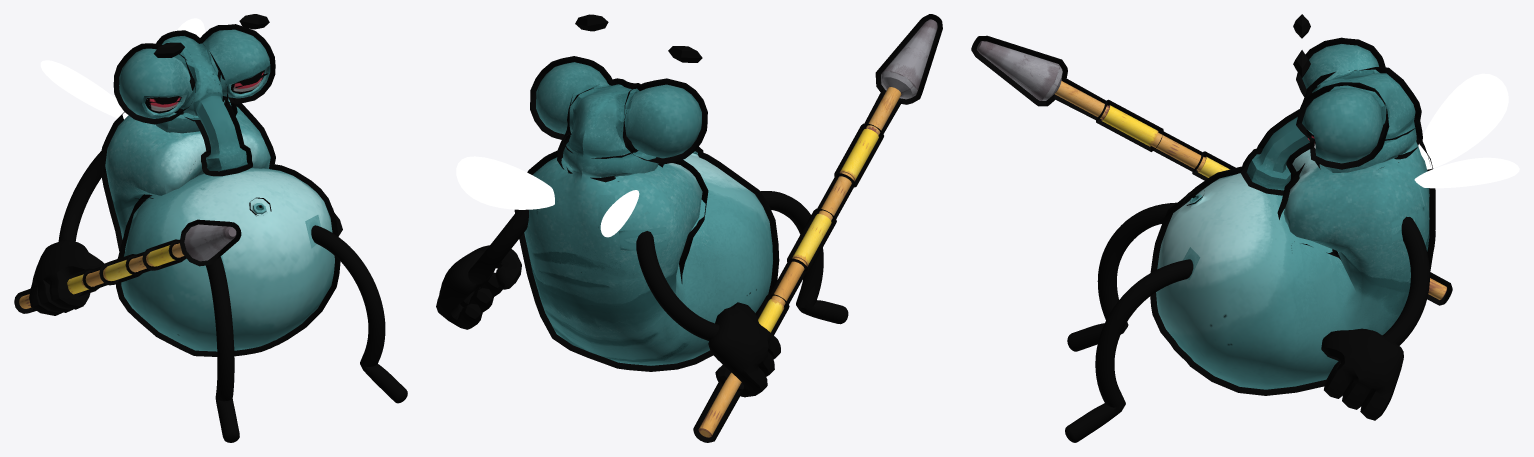
File: blueMob.gltf
3 renders of one model, left to right at view 1: azimuth 30°, elevation 25°; view 2: azimuth 150°, elevation 25°; view 3: azimuth 270°, elevation 25°, orthographic. The views are drawn at different scales.
Visible parts, largest first — view 1: vorp, lance, bras_1, jambe_2, jambe, aile_2, oeil_2.001, oeil_2; view 2: vorp, lance, bras_1, bras__2, aile, jambe, aile_2; view 3: vorp, lance, bras__2, aile_2, jambe_2, jambe, aile.
Boxes of the visible parts, bbox=[...] form: vorp: bbox=[99, 24, 340, 356]; lance: bbox=[14, 219, 241, 313]; bras_1: bbox=[29, 143, 109, 315]; jambe_2: bbox=[311, 225, 407, 403]; jambe: bbox=[206, 257, 239, 442]; aile_2: bbox=[40, 60, 128, 119]; oeil_2.001: bbox=[145, 96, 181, 113]; oeil_2: bbox=[231, 70, 264, 93]; vorp: bbox=[514, 56, 779, 371]; lance: bbox=[693, 14, 942, 442]; bras_1: bbox=[636, 231, 780, 397]; bras__2: bbox=[436, 209, 528, 329]; aile: bbox=[456, 156, 554, 209]; jambe: bbox=[755, 191, 848, 324]; aile_2: bbox=[600, 190, 639, 237]; vorp: bbox=[1150, 37, 1435, 395]; lance: bbox=[971, 35, 1452, 305]; bras__2: bbox=[1321, 216, 1429, 420]; aile_2: bbox=[1418, 73, 1508, 169]; jambe_2: bbox=[1065, 259, 1193, 442]; jambe: bbox=[1067, 202, 1186, 351]; aile: bbox=[1414, 157, 1519, 188].
Bounding box in the file's own units: 0.8835 × 0.9212 × 1.26.
5 materials, 3 textured.
